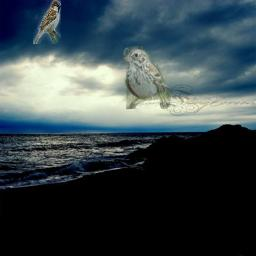Sparrow: (123, 46, 172, 109), (33, 0, 61, 44)
